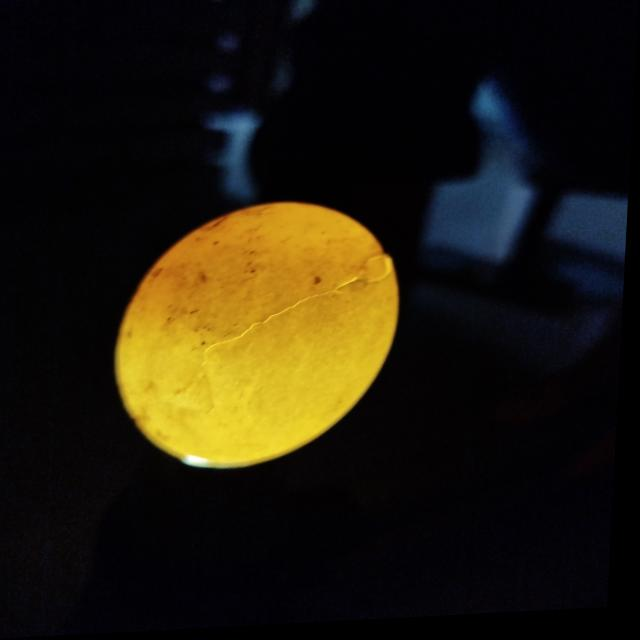Rachadura: (196, 256, 397, 372)
